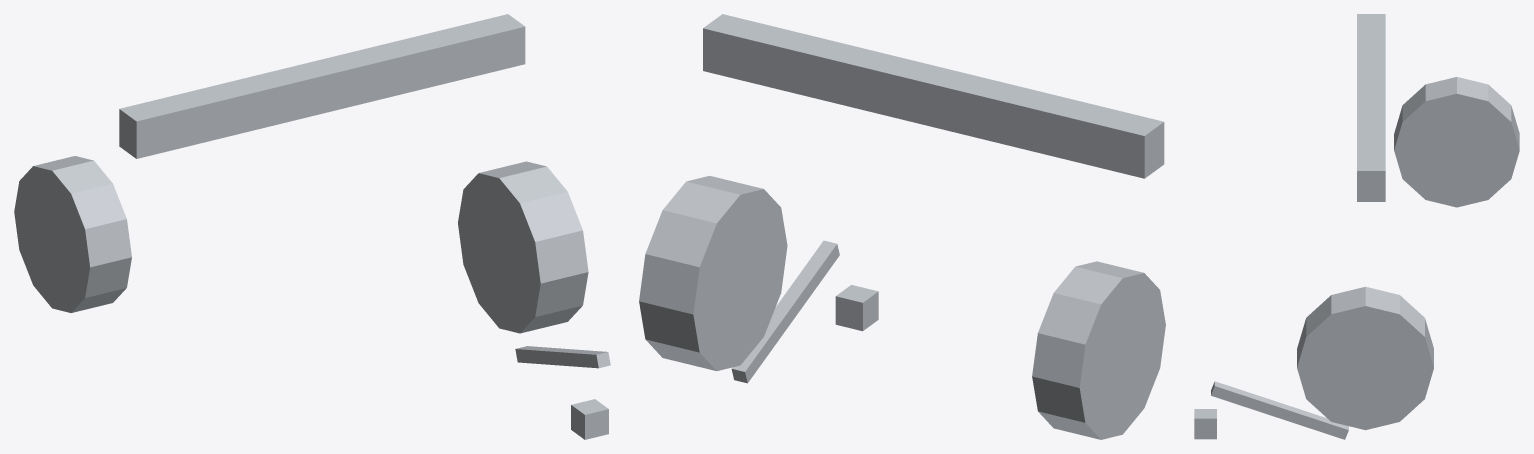
The model's file is npc_gear_headset_one_ear.fbx.
The picture shows the model from 3 angles, left to right: view 1: azimuth 30°, elevation 25°; view 2: azimuth 150°, elevation 25°; view 3: azimuth 270°, elevation 25°; orthographic projection. The views are drawn at different scales.
Visible parts, largest first — view 1: npc_gear_headset_one_ear; view 2: npc_gear_headset_one_ear; view 3: npc_gear_headset_one_ear.
Boxes of the visible parts, x1,y1,x2,y2 form: npc_gear_headset_one_ear: (14, 14, 610, 439); npc_gear_headset_one_ear: (639, 14, 1165, 439); npc_gear_headset_one_ear: (1194, 14, 1519, 439).
Bounding box in the file's own units: 147 × 106 × 114.
